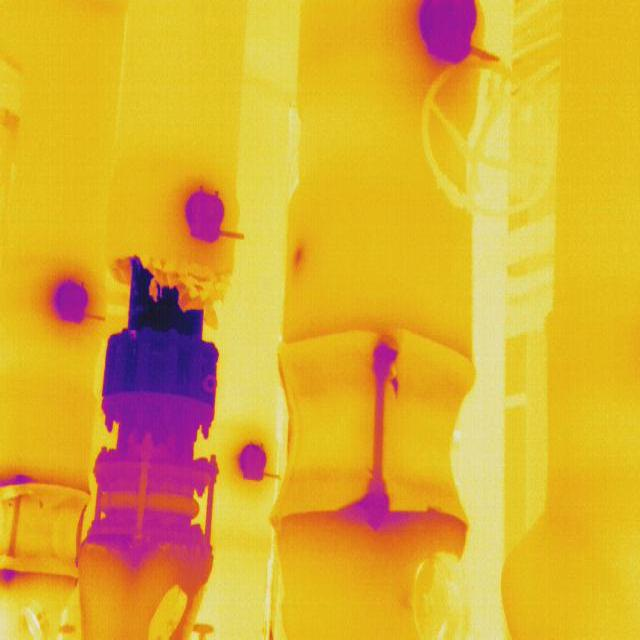leakage: (288, 241, 310, 271)
